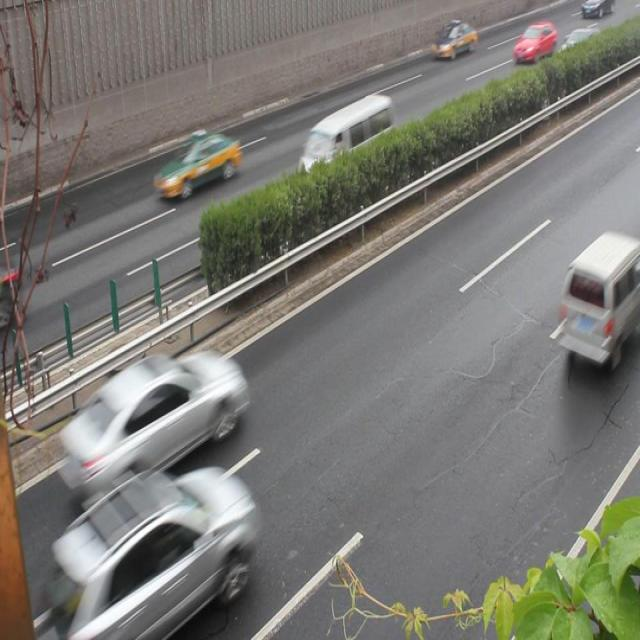car: (54, 468, 252, 628), (54, 349, 245, 509), (152, 129, 240, 202), (431, 22, 475, 60)
truck: (558, 228, 640, 363), (297, 95, 393, 194)
